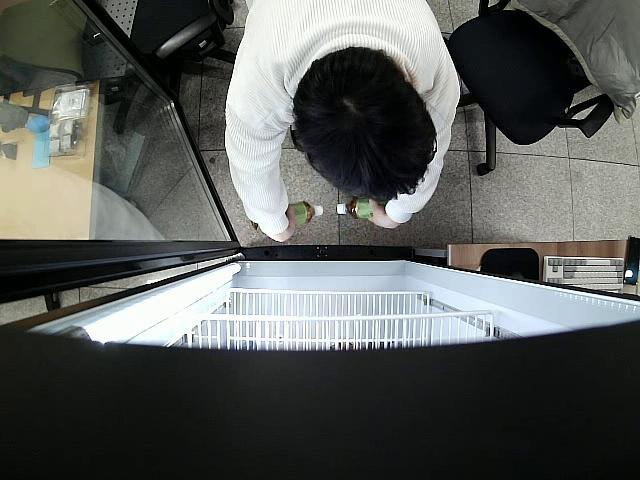19_17cha: (282, 199, 322, 226), (336, 196, 377, 219)
